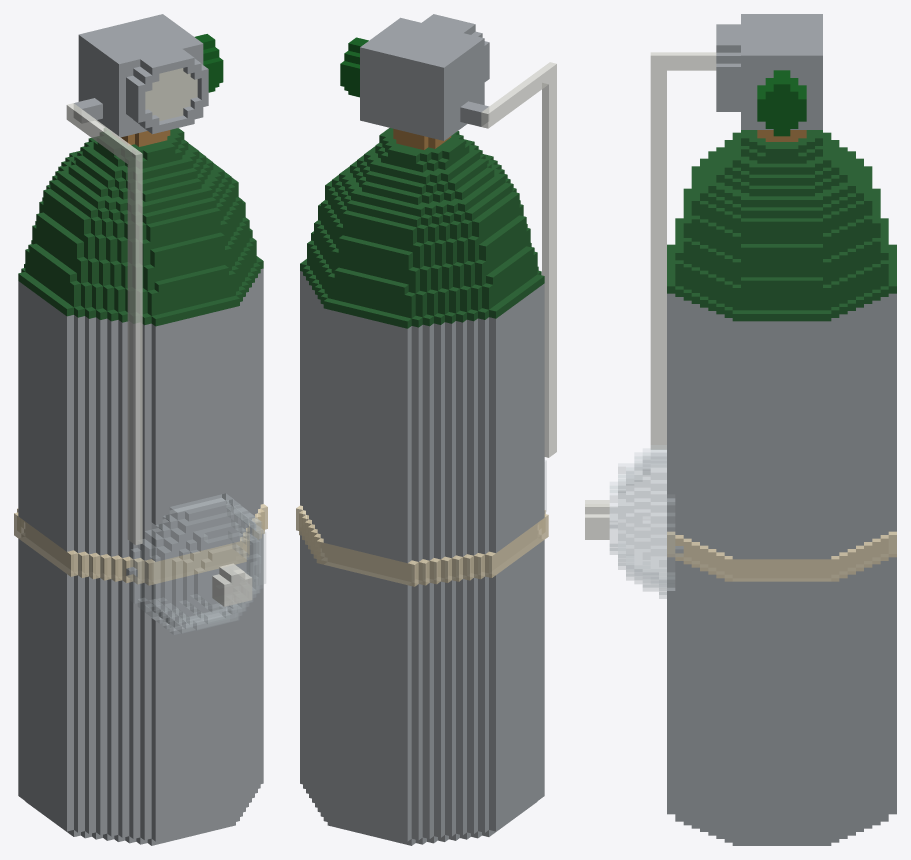
The model's file is oxygen_tank.glb.
3 views of the same model, side by side, from view 1: azimuth 30°, elevation 25°; view 2: azimuth 150°, elevation 25°; view 3: azimuth 270°, elevation 25° (orthographic).
Visible parts, largest first — view 1: oxygen_tank:compound; view 2: oxygen_tank:compound; view 3: oxygen_tank:compound.
Part boxes in pixels (x1,y1,x2,y2): oxygen_tank:compound: [14, 14, 267, 845]; oxygen_tank:compound: [296, 14, 556, 845]; oxygen_tank:compound: [585, 14, 896, 845].
Bounding box in the file's own units: 0.112 × 0.412 × 0.152.
